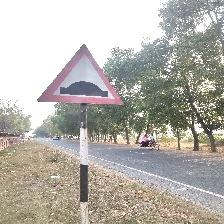Speed-breaker: (38, 40, 123, 110)
